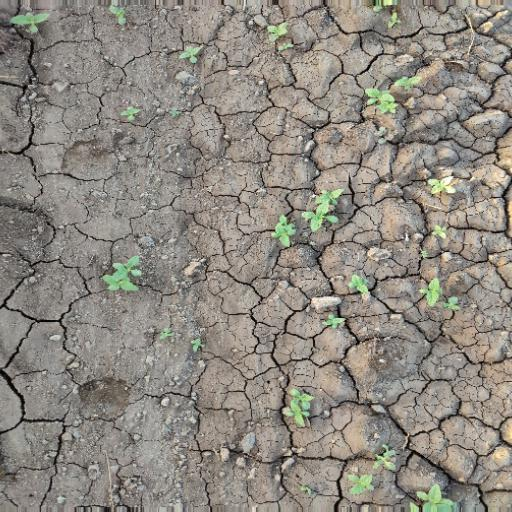crop: (270, 188, 348, 244), (366, 74, 419, 113), (100, 252, 143, 295), (8, 9, 69, 38), (424, 278, 459, 314), (286, 385, 314, 429), (421, 172, 463, 200), (264, 21, 298, 51), (178, 39, 207, 67), (348, 272, 371, 300)
